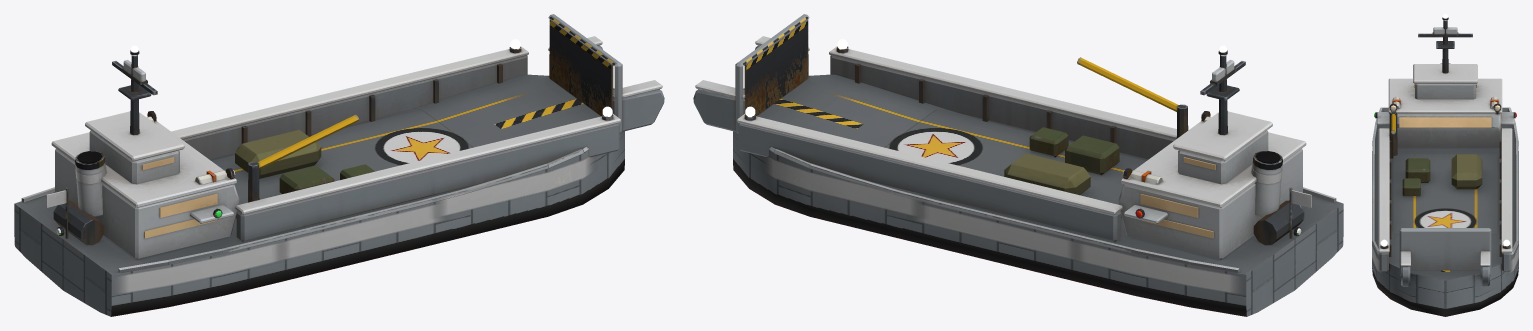
File: lst.soviet.glb
3 views of the same model, side by side, from view 1: azimuth 30°, elevation 25°; view 2: azimuth 150°, elevation 25°; view 3: azimuth 270°, elevation 25° (orthographic). The views are drawn at different scales.
Parts seen in each view (by area): view 1: hull_mesh, ramp_mesh, doorL_mesh; view 2: hull_mesh, ramp_mesh, doorR_mesh; view 3: hull_mesh, ramp_mesh, doorR_mesh, doorL_mesh, radar_mesh.
Boxes of the visible parts, left/top/right/bottom form: hull_mesh: left=14, top=39, right=624, bottom=316; ramp_mesh: left=548, top=14, right=622, bottom=133; doorL_mesh: left=612, top=80, right=664, bottom=131; hull_mesh: left=733, top=39, right=1343, bottom=316; ramp_mesh: left=735, top=14, right=809, bottom=133; doorR_mesh: left=693, top=80, right=745, bottom=131; hull_mesh: left=1372, top=14, right=1518, bottom=316; ramp_mesh: left=1399, top=228, right=1491, bottom=275; doorR_mesh: left=1480, top=251, right=1490, bottom=286; doorL_mesh: left=1400, top=251, right=1410, bottom=286; radar_mesh: left=1432, top=27, right=1458, bottom=36.
Size of the model in its own units: 1.47 by 0.571 by 0.48.
Materials: 3 (1 with a texture image).
